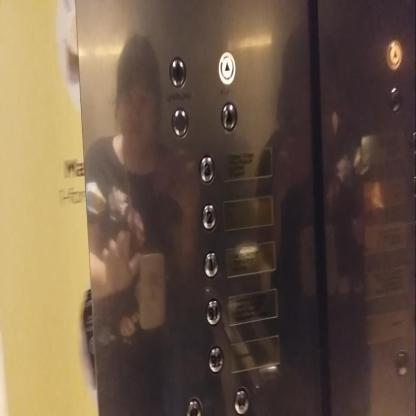1: (203, 250, 218, 278)
2: (201, 203, 216, 231)
3: (198, 153, 215, 184)
B1: (205, 298, 221, 325)
B2: (208, 344, 223, 374)
blur: (171, 106, 189, 140), (168, 57, 186, 89), (220, 100, 237, 133), (233, 385, 250, 416)
up: (217, 51, 236, 84), (386, 40, 402, 71)
